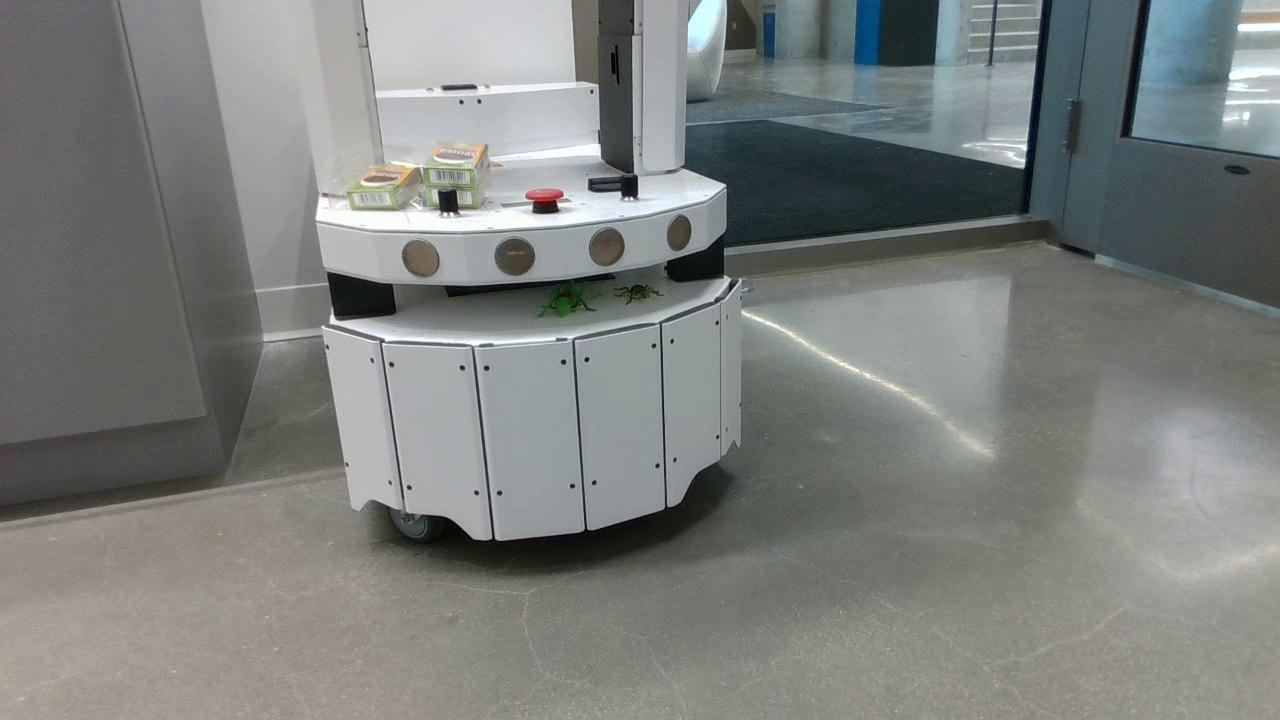grasshopper: (535, 281, 591, 318)
